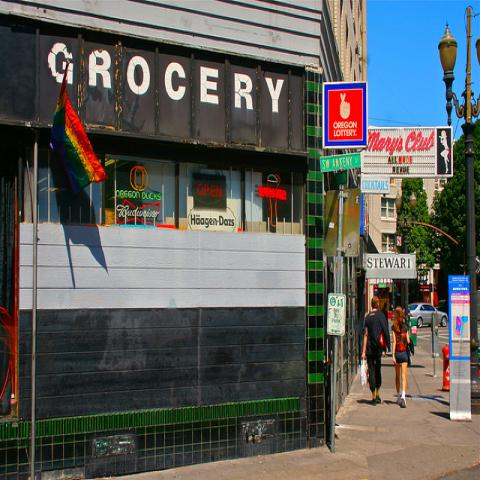car: (409, 303, 448, 327)
